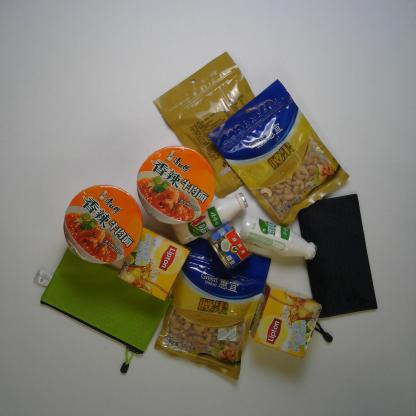Canned Food: (207, 221, 253, 271)
Dried Fruit: (208, 79, 350, 228), (154, 238, 272, 380), (152, 51, 256, 199)
Instant Drink: (250, 281, 322, 359), (117, 226, 191, 301)
Instant Noodles: (63, 184, 143, 265), (136, 145, 216, 225)
Milk: (170, 192, 249, 245), (237, 215, 317, 260)
Stationery: (39, 246, 174, 355), (298, 194, 378, 318)
